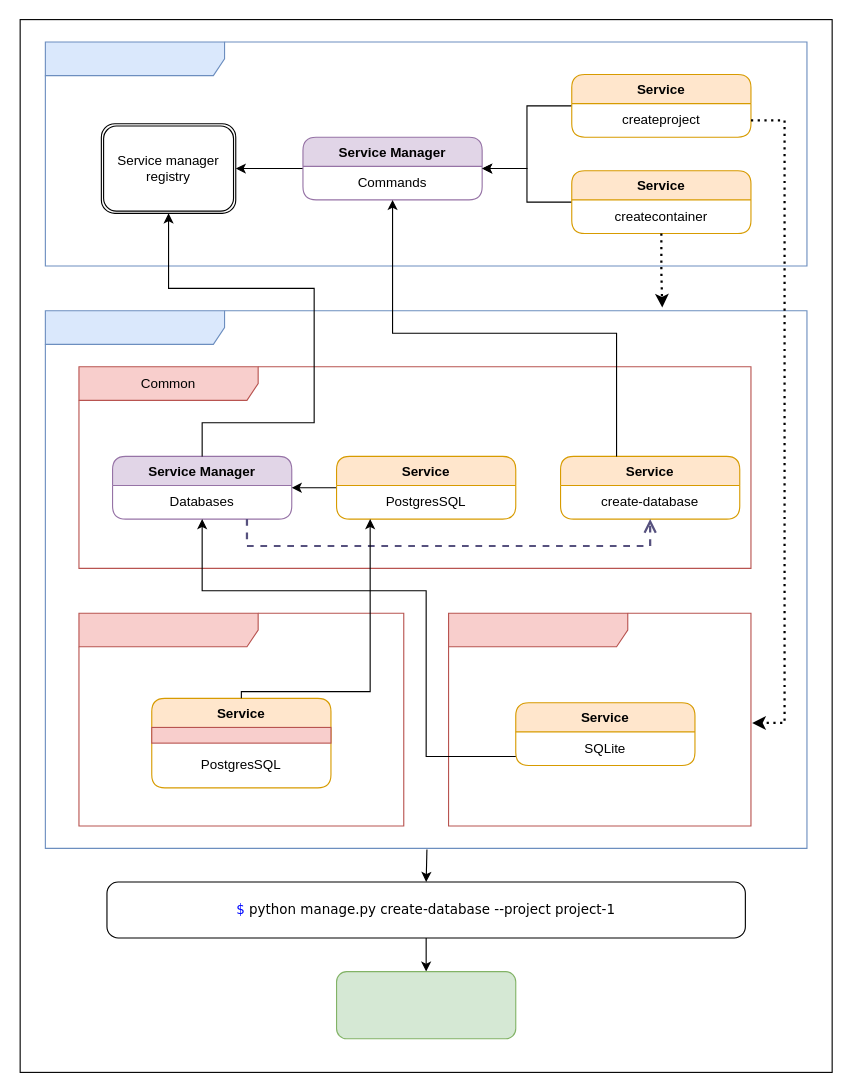
Image size: 851x1092. Some labels were removed from this diagram. Here are the shapes that lost their labels. From the top down, the box of each, then its label:
(44, 41, 807, 266): Socon
(44, 310, 807, 848): User
(78, 612, 404, 826): project-1
(151, 726, 331, 743): override
(447, 612, 751, 826): project-2
(335, 970, 516, 1039): PostgresSQL database is created for the project-1 .
